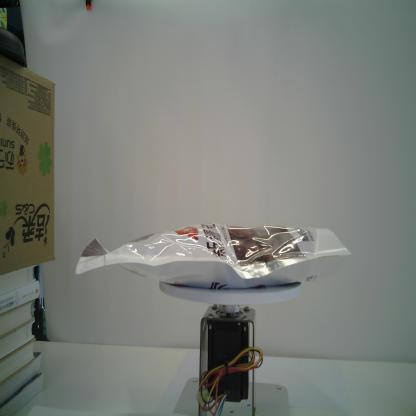Dried Food: (73, 219, 352, 292)
